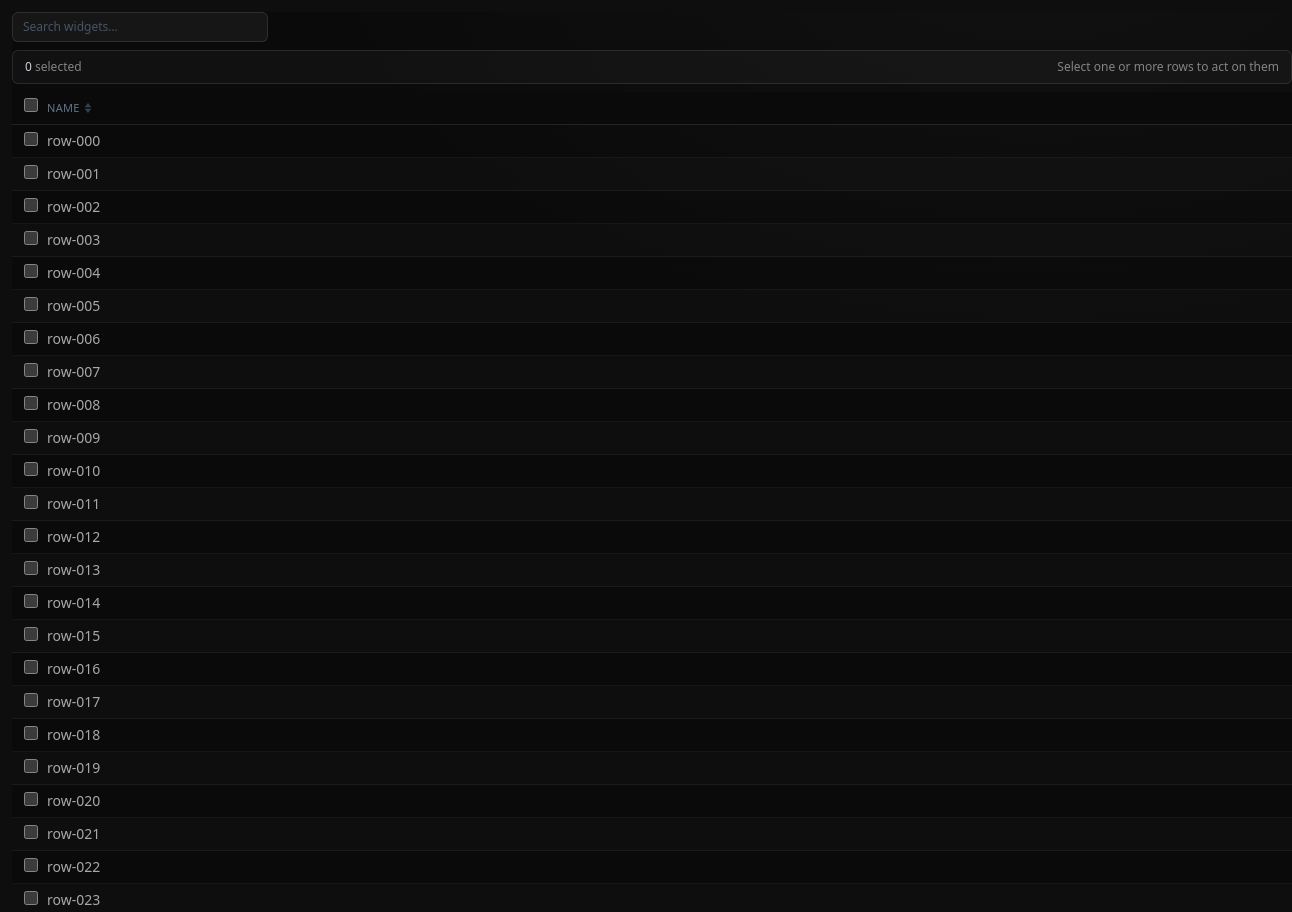
it: DataTable, selection › ⭐ THE HEADER CHECKBOX SELECTS THE PAGE, NEVER THE WHOLE RESULT SET
The image size is (1292, 912).
Step 1. Click the checkbox named "Select all 25 on this page" → (31, 105), box [24,98,38,112]
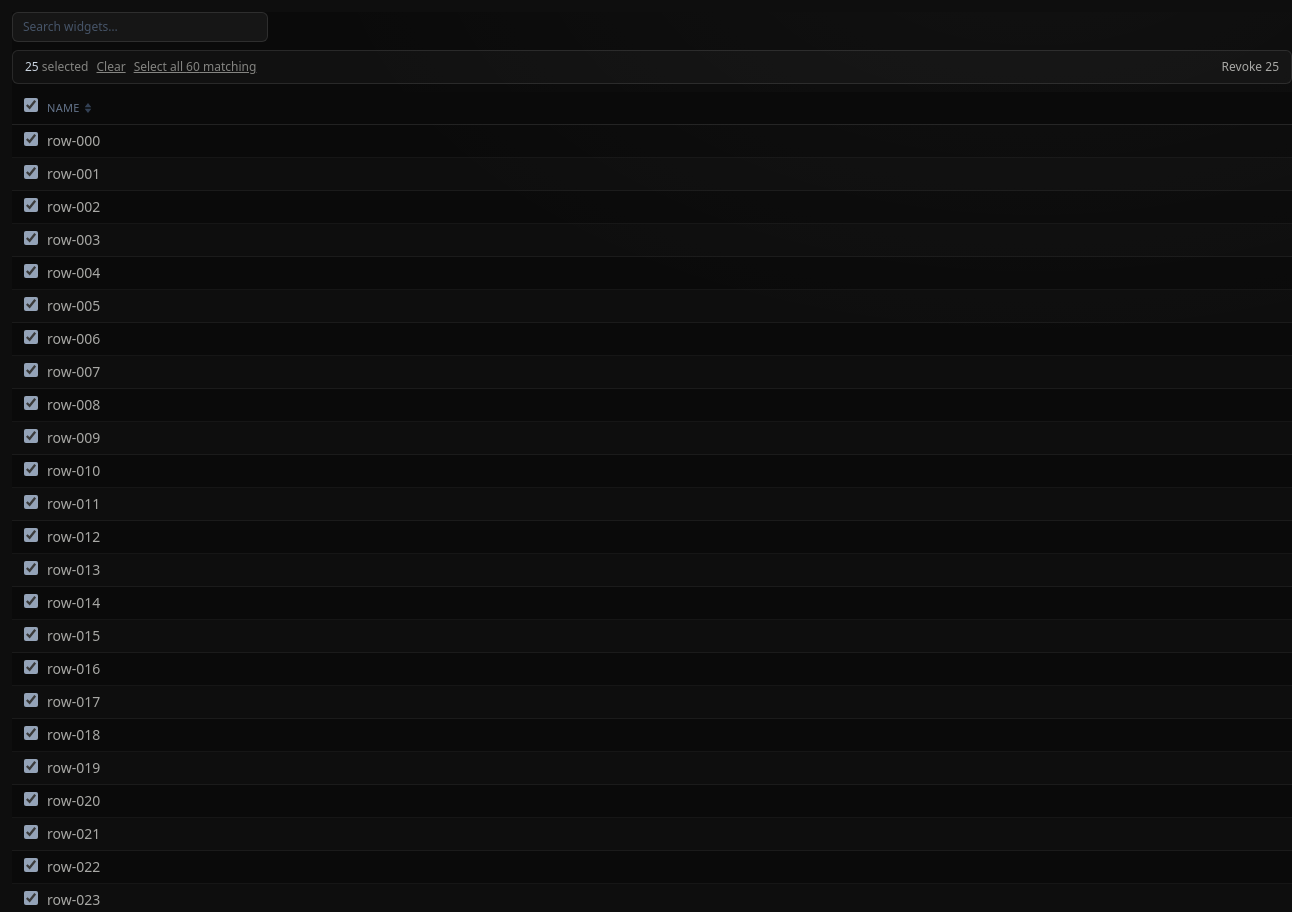
Check: the text "selected" shows "25 selected", box [25,59,256,75]
